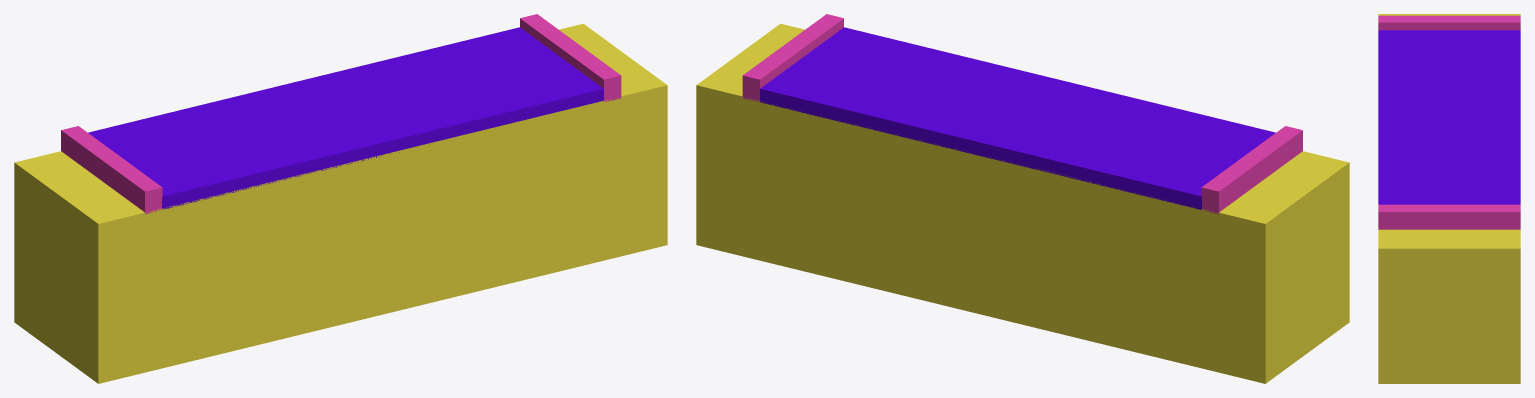
Rendered from zemin_birlesik.fbx.
The picture shows the model from 3 angles, left to right: view 1: azimuth 30°, elevation 25°; view 2: azimuth 150°, elevation 25°; view 3: azimuth 270°, elevation 25°; orthographic projection. The views are drawn at different scales.
Visible parts, largest first — view 1: Cube.003; view 2: Cube.003; view 3: Cube.003.
Part boxes in pixels (x1,y1,x2,y2): Cube.003: (14, 14, 667, 383); Cube.003: (696, 14, 1349, 383); Cube.003: (1378, 14, 1520, 383).
Size of the model in its own units: 782 by 237 by 200.
